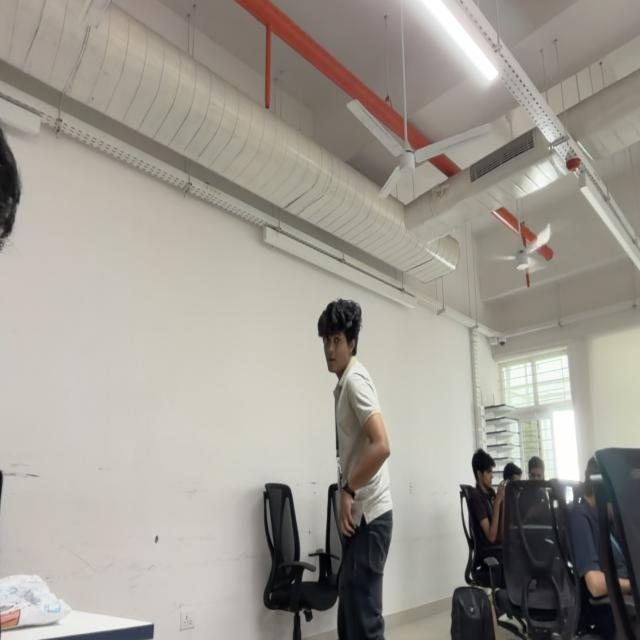kshitij: (318, 297, 361, 373)
